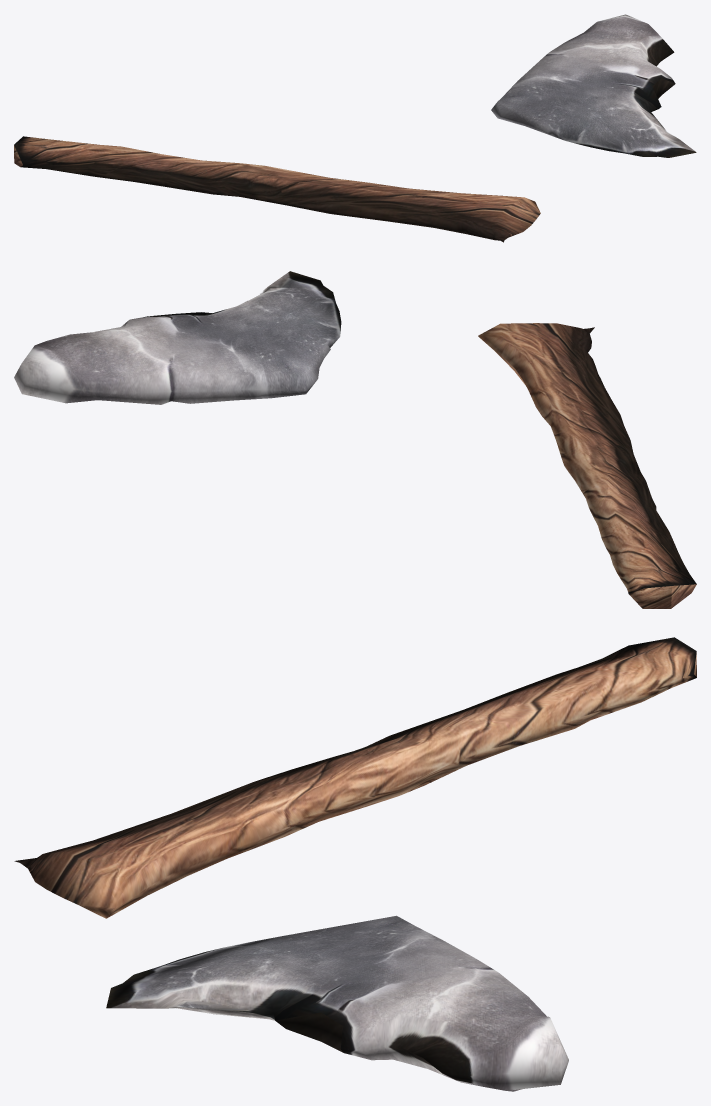
File: AkeHeadHaftS.glb
The picture shows the model from 3 angles, top to bottom: view 1: azimuth 30°, elevation 25°; view 2: azimuth 150°, elevation 25°; view 3: azimuth 270°, elevation 25°; orthographic projection. The views are drawn at different scales.
Parts seen in each view (by area): view 1: Axe Haft, AxeHead; view 2: AxeHead, Axe Haft; view 3: AxeHead, Axe Haft.
Part boxes in pixels (box(x1,y1,x2,y2)): Axe Haft: box(14, 136, 540, 242); AxeHead: box(491, 14, 696, 157); AxeHead: box(14, 271, 341, 404); Axe Haft: box(478, 323, 696, 608); AxeHead: box(106, 915, 568, 1091); Axe Haft: box(14, 637, 696, 918).
Size of the model in its own units: 0.2184 by 0.0171 by 0.1404.
1 material, 1 textured.
